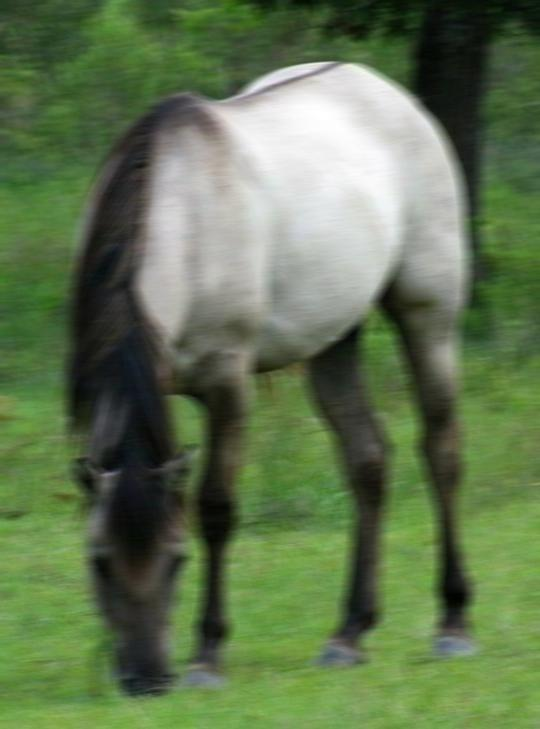horse: (58, 59, 478, 698)
